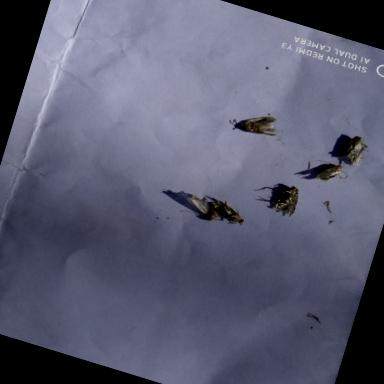pbw: (172, 188, 230, 230), (225, 103, 284, 143), (204, 194, 257, 231), (263, 178, 305, 221), (336, 130, 374, 170), (312, 158, 354, 192)
